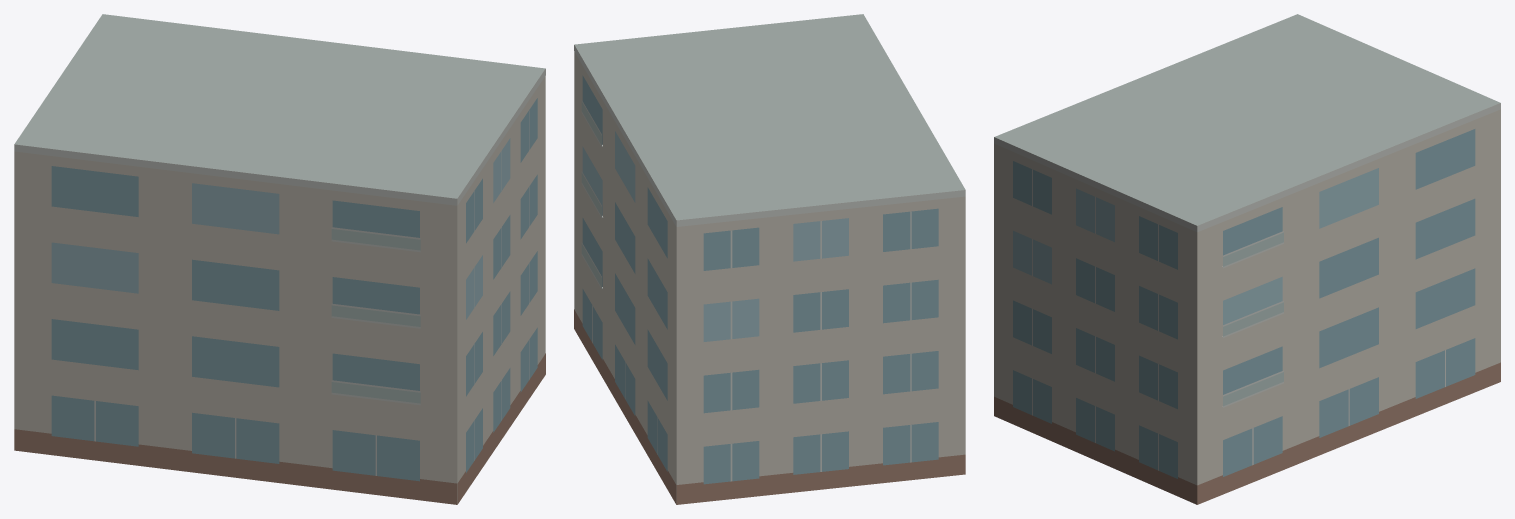
Rendered from survey-upis-32815278.glb.
3 views of the same model, side by side, from view 1: azimuth 30°, elevation 25°; view 2: azimuth 150°, elevation 25°; view 3: azimuth 270°, elevation 25° (orthographic). The views are drawn at different scales.
Parts seen in each view (by area): view 1: survey-upis-32815278.tmp; view 2: survey-upis-32815278.tmp; view 3: survey-upis-32815278.tmp.
Boxes of the visible parts, <box> form: survey-upis-32815278.tmp: <box>14,14,545,504</box>; survey-upis-32815278.tmp: <box>574,14,965,504</box>; survey-upis-32815278.tmp: <box>994,14,1500,504</box>.
Size of the model in its own units: 17.27 by 10.6 by 17.46.
